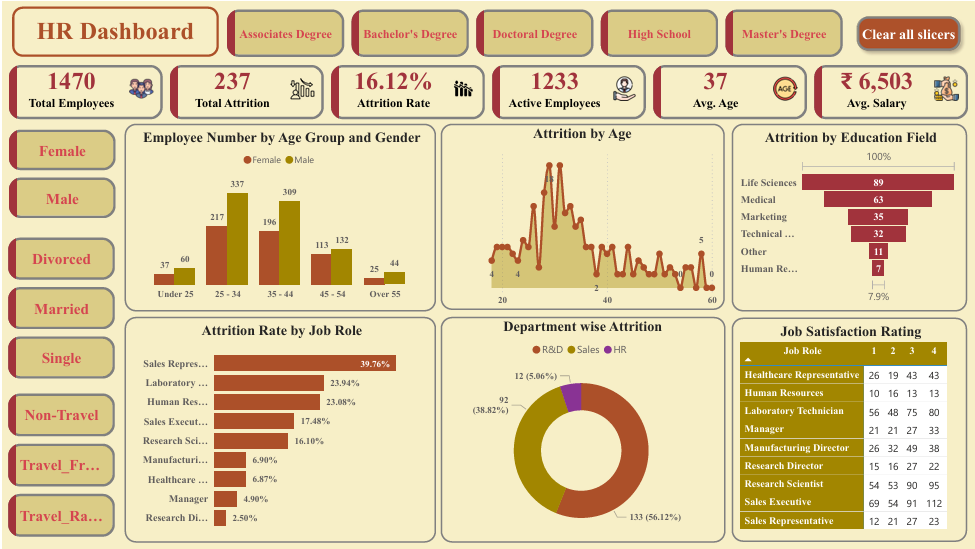

Layout of this report page (visuals, bound fields, positions):
{"tool":"powerbi","page":{"name":"Dashboard","canvas":[1280,720],"ordinal":0},"visuals":[{"type":"cardVisual","fields":{"Data":["HR data.Total Employees","HR data.Attrition Count","HR data.Attrition Rate","HR data.Active Employees","HR data.Avg. Age","HR data.Avg. Monthly Salary"]},"box":[4.3,78.6,1275.7,81],"z":0},{"type":"clusteredColumnChart","title":"Employee Number by Age Group and Gender","fields":{"Series":["HR data.Gender"],"Y":["CountNonNull(HR data.Employee Number)"],"Category":["HR data.Age Group"]},"box":[160.9,160.8,410,247.1],"z":1000},{"type":"areaChart","title":"Attrition by Age","fields":{"Category":["HR data.Age"],"Y":["Sum(HR data.Attrition Count)"]},"box":[576.9,160.5,374.3,245.7],"z":2000},{"type":"donutChart","title":"Department wise Attrition","fields":{"Category":["HR data.Department"],"Y":["Sum(HR data.Attrition Count)"]},"box":[576.7,414.9,375,296.7],"z":3000},{"type":"clusteredBarChart","fields":{"Y":["HR data.Attrition Rate"],"Category":["HR data.Job Role"]},"box":[160.7,415.2,410,296.7],"z":4000},{"type":"pivotTable","title":"Job Satisfaction Rating","fields":{"Columns":["HR data.Job Satisfaction"],"Rows":["HR data.Job Role"],"Values":["Sum(HR data.Employee Count)"]},"box":[960,415.7,310,295.7],"z":5000},{"type":"funnel","title":"Attrition by Education Field","fields":{"Y":["Sum(HR data.Attrition Count)"],"Category":["HR data.Education Field"]},"box":[959.7,160.6,310,247.1],"z":6000},{"type":"advancedSlicerVisual","fields":{"Values":["HR data.Gender"]},"box":[4.3,164.3,150,127.1],"z":7000},{"type":"advancedSlicerVisual","fields":{"Values":["HR data.Marital Status"]},"box":[2.9,305.7,150,195.7],"z":8000},{"type":"advancedSlicerVisual","fields":{"Values":["HR data.Business Travel"]},"box":[2.9,511.4,150,200],"z":9000},{"type":"advancedSlicerVisual","fields":{"Values":["HR data.Education"]},"box":[291.4,5.7,824.3,72.9],"z":10000},{"type":"actionButton","box":[1115.7,11.4,154.3,62.9],"z":11000},{"type":"textbox","box":[13.3,6.7,271.7,66.7],"z":12000}]}

Visuals, with their boxes in screenshot pixels (x1, y1, x2, y2), scaled from the page's 1280x720 canvas onto the 975x549 screenshot:
cardVisual - HR data.Total Employees x HR data.Attrition Count: 3 60 974 122
"Employee Number by Age Group and Gender" clusteredColumnChart: 123 123 435 311
"Attrition by Age" areaChart: 439 122 725 310
"Department wise Attrition" donutChart: 439 316 725 543
clusteredBarChart - HR data.Attrition Rate x HR data.Job Role: 122 317 435 543
"Job Satisfaction Rating" pivotTable: 731 317 967 542
"Attrition by Education Field" funnel: 731 122 967 311
advancedSlicerVisual - HR data.Gender: 3 125 118 222
advancedSlicerVisual - HR data.Marital Status: 2 233 116 382
advancedSlicerVisual - HR data.Business Travel: 2 390 116 542
advancedSlicerVisual - HR data.Education: 222 4 850 60
actionButton: 850 9 967 57
textbox: 10 5 217 56
